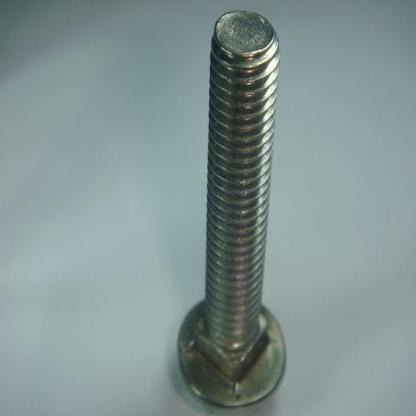FOD: (174, 7, 290, 408)
